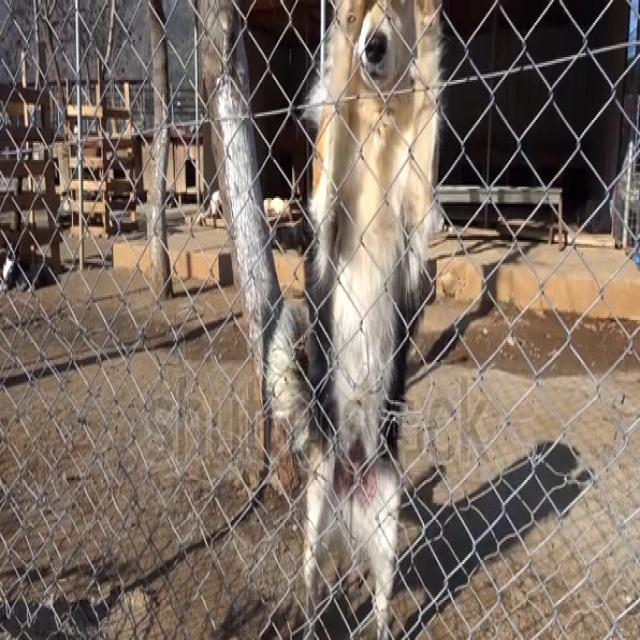injured-animals: (259, 0, 448, 638)
